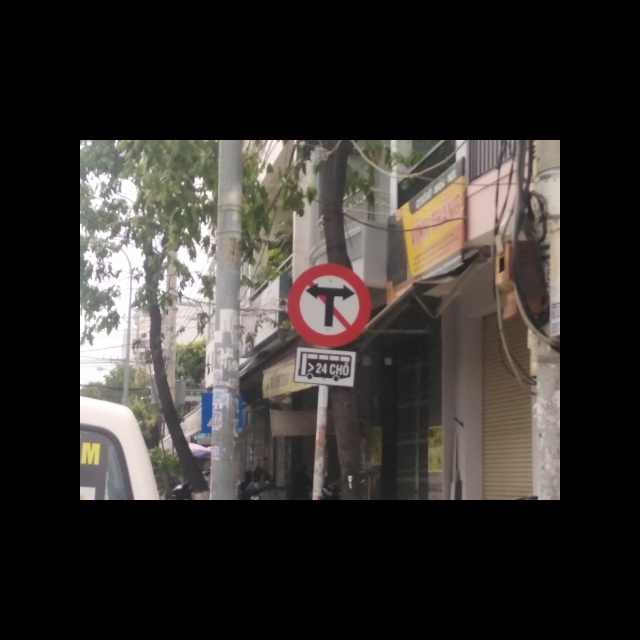Cấm rẽ trái và rẽ phải: (290, 262, 371, 346)
